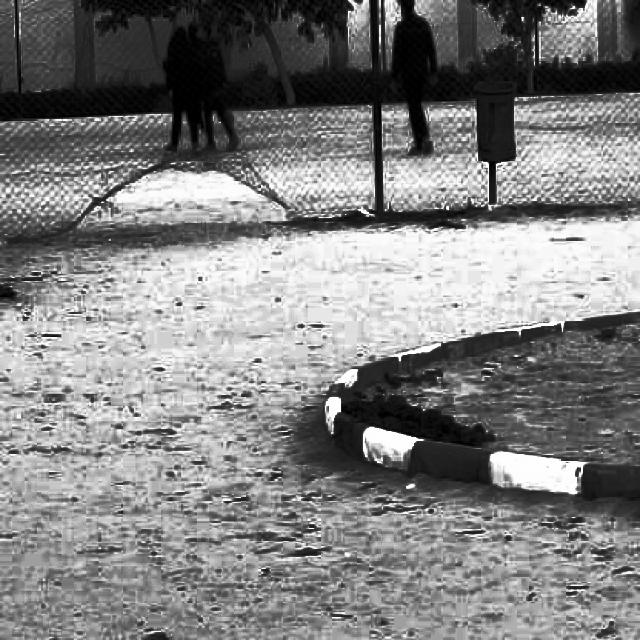anomaly-fence: (69, 151, 328, 232)
